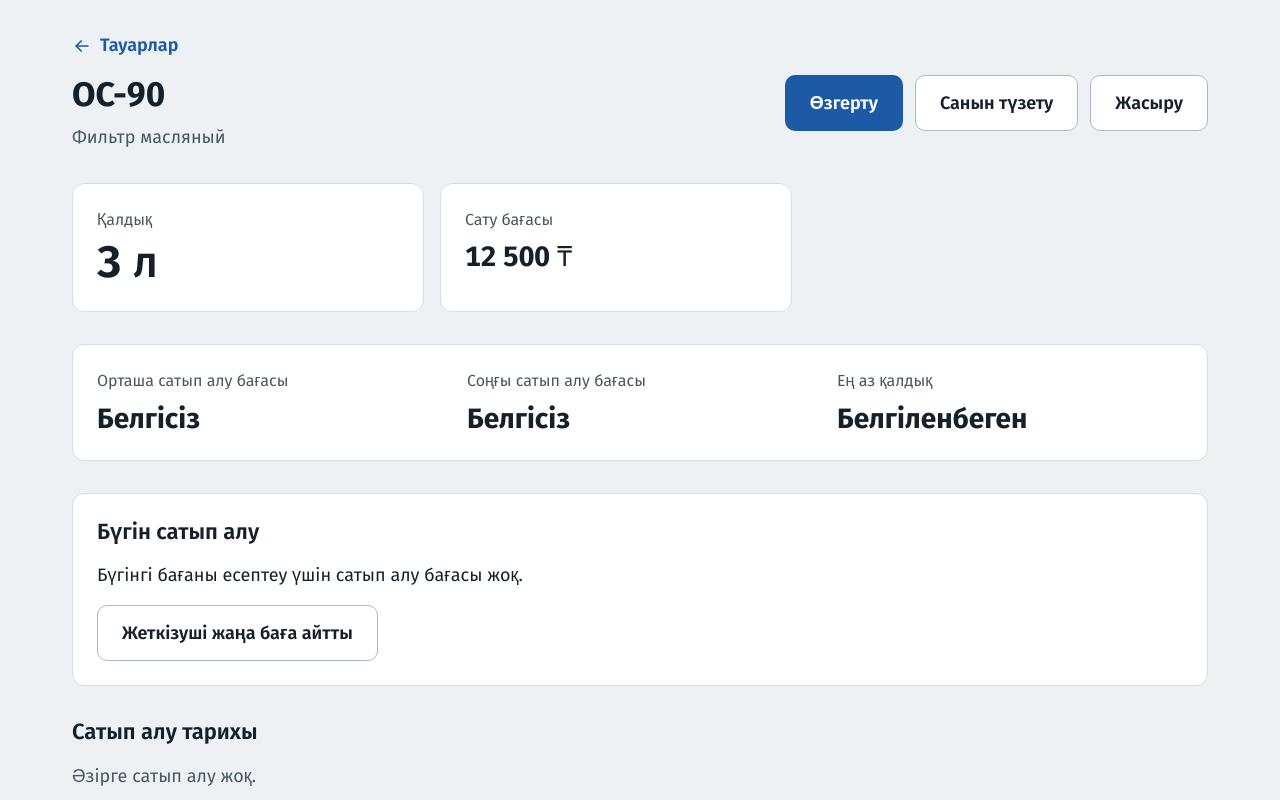
archive warning uses the product unit in kk
Step 1. Click the button "Жасыру" → (1149, 103), box [1090, 75, 1208, 131]
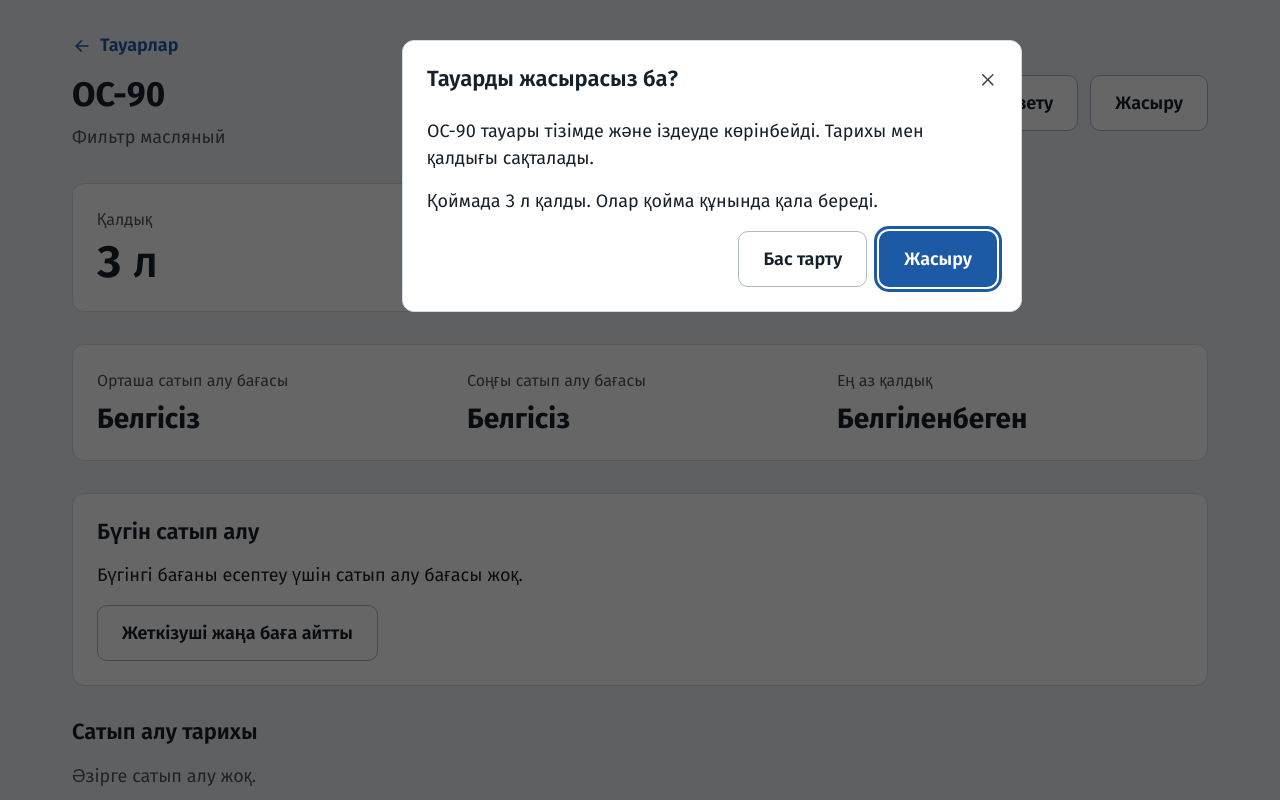
Now the text "Қоймада 3 л қалды. Олар қойма құнында қала береді." is shown, box [427, 190, 878, 212]
